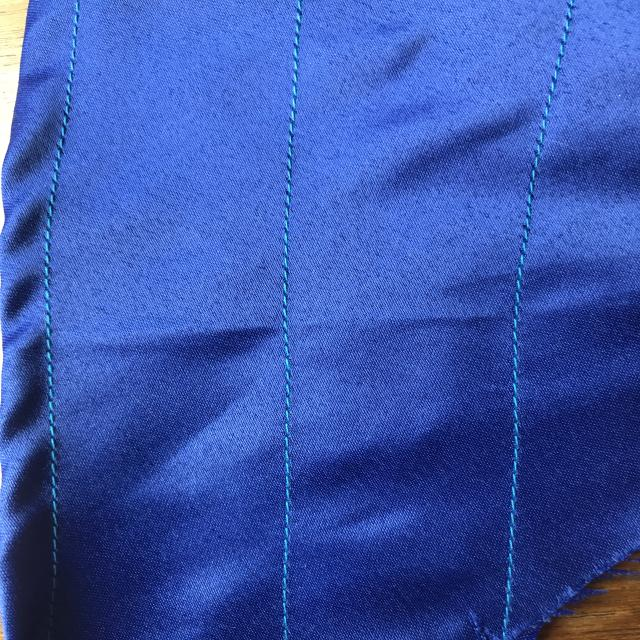good: (268, 179, 304, 310)
